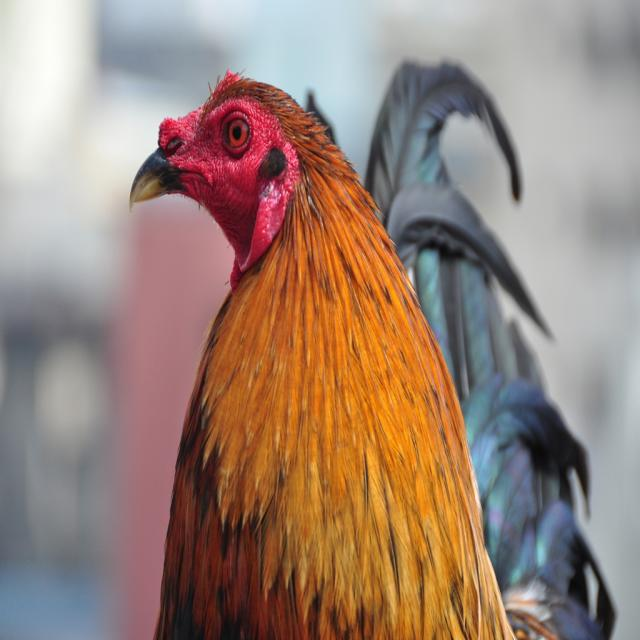Chicken: (129, 57, 618, 640)
